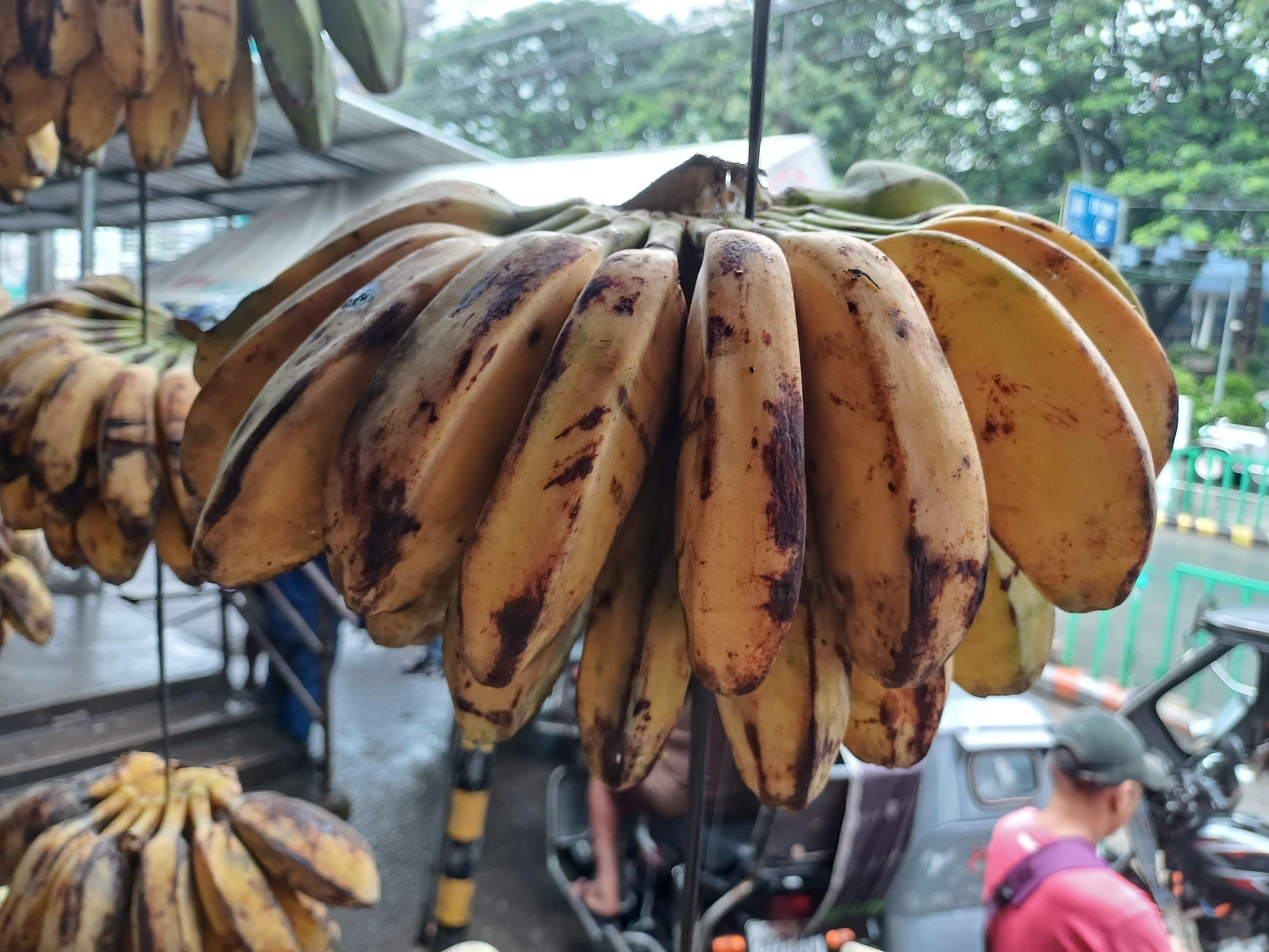ripe: (178, 160, 1181, 814), (0, 782, 382, 952), (0, 274, 201, 587), (0, 0, 259, 202)
underripe: (247, 0, 409, 154)
